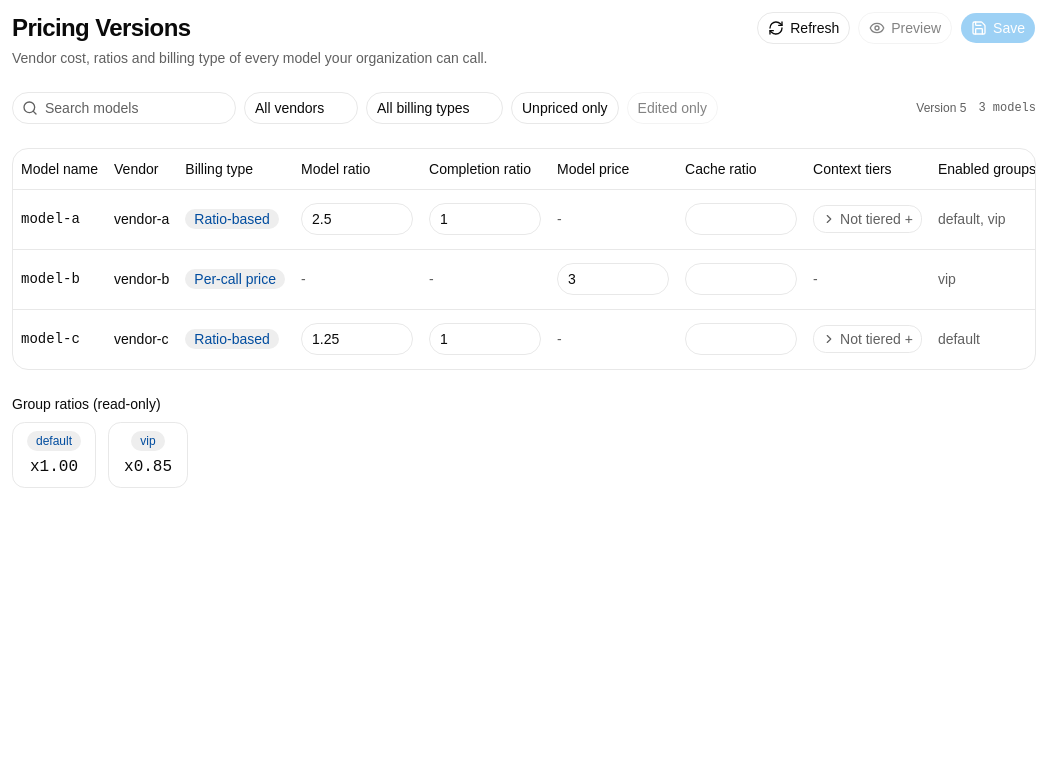
Test: editing and saving › a version conflict reloads, says so, and keeps the edits for review
This screenshot has width=1048, height=780.
expect the table with test id "pricing-table" shows "model-a": met, box [21,211,80,227]
Step 1. Replace the text in the number field with test id "field-model_ratio-model-a" with "3.0" → point(357, 219), box [301,203,413,235]
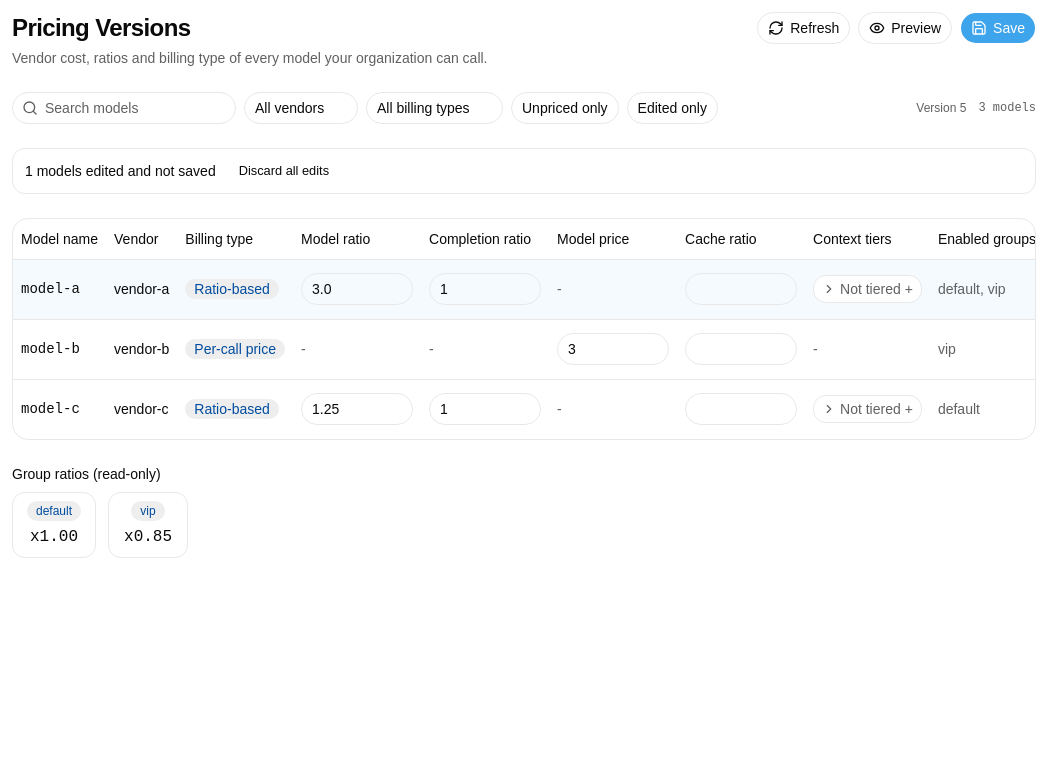
Step 2. Click the button with test id "pricing-save" → point(998, 28), box [960,12,1036,44]
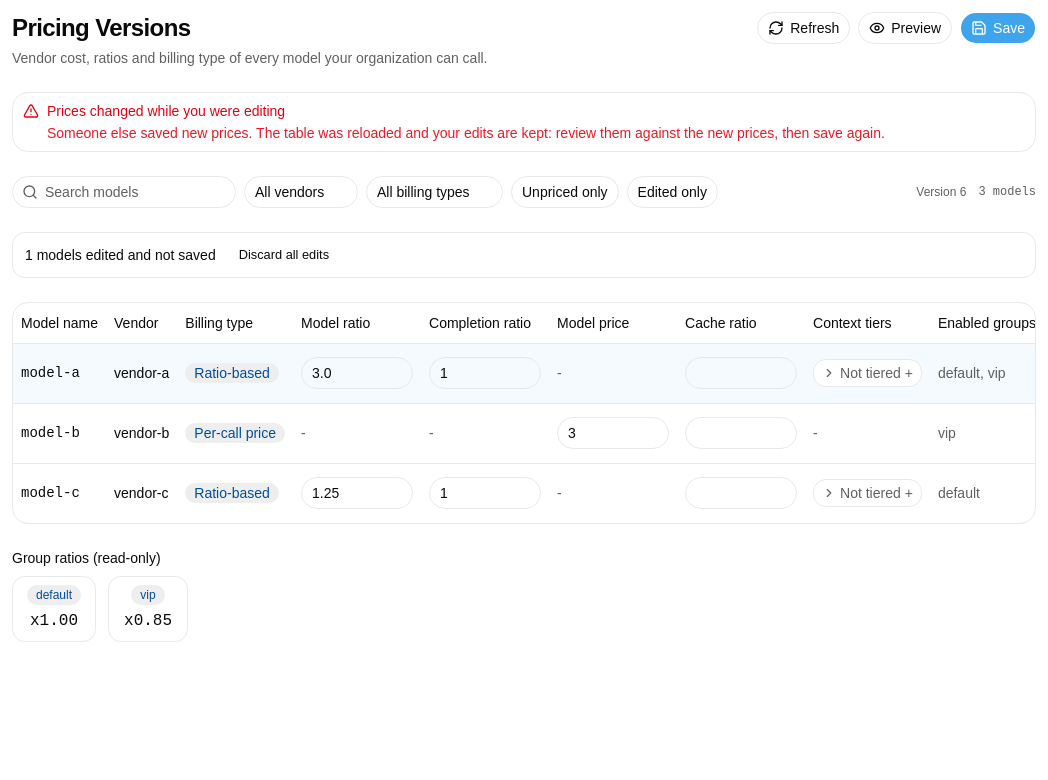
expect the message with test id "pricing-conflict" is shown: met, box [12,92,1036,152]
expect the text with test id "pricing-version" shows "6": met, box [960,185,966,199]
Step 3. Click the button with test id "pricing-save" → point(998, 28), box [960,12,1036,44]
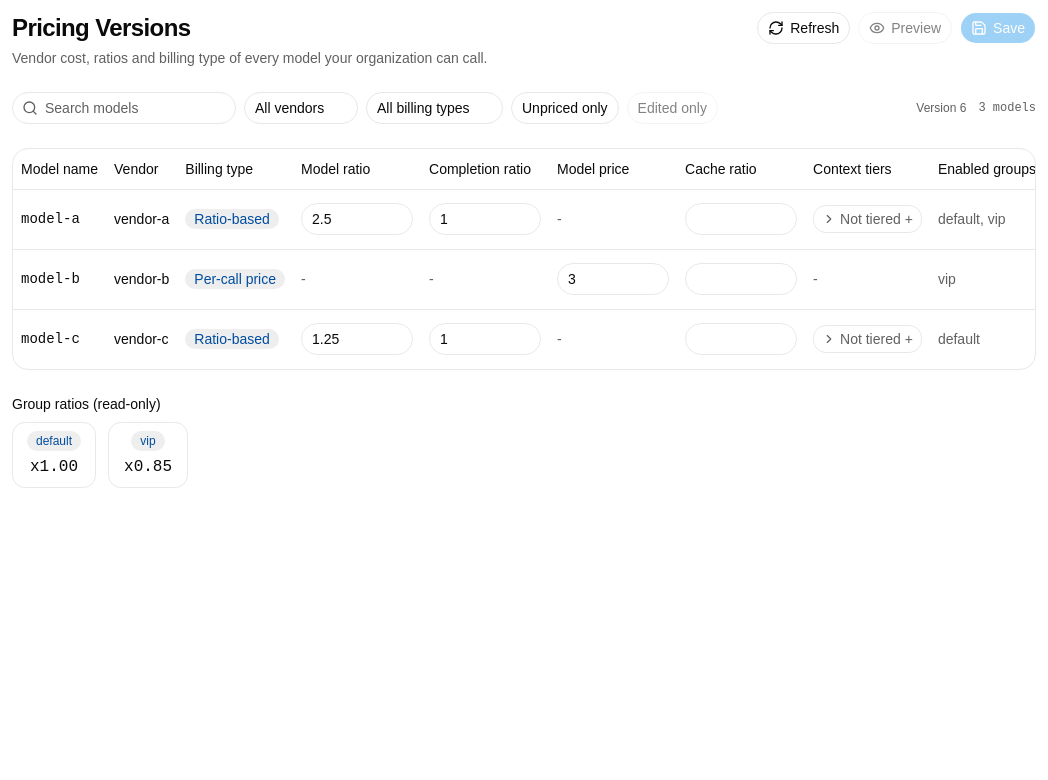
expect the message with test id "pricing-conflict" is gone: met
